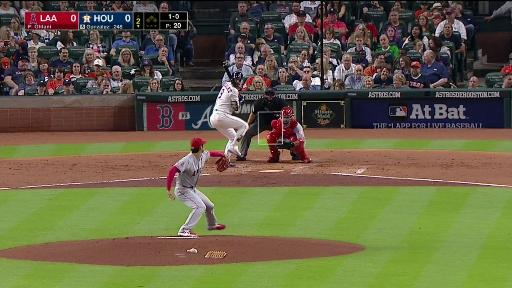pitcher: (166, 137, 229, 237)
